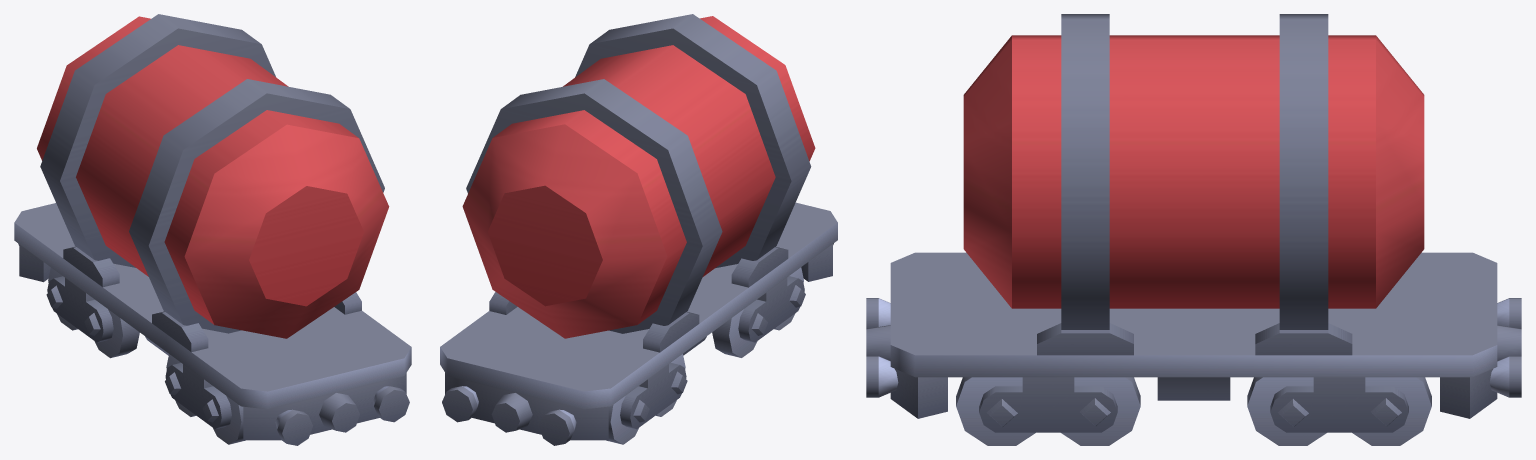
The model's file is train-carriage-tank.obj.
3 views of the same model, side by side, from view 1: azimuth 30°, elevation 25°; view 2: azimuth 150°, elevation 25°; view 3: azimuth 270°, elevation 25° (orthographic). The views are drawn at different scales.
Visible parts, largest first — view 1: train-carriage-tank, wheels-back, wheels-front; view 2: train-carriage-tank, wheels-front, wheels-back; view 3: train-carriage-tank, wheels-front, wheels-back.
Part boxes in pixels (left/top/right/bottom): train-carriage-tank: left=14, top=14, right=411, bottom=445; wheels-back: left=46, top=267, right=139, bottom=358; wheels-front: left=165, top=354, right=245, bottom=444; train-carriage-tank: left=440, top=14, right=837, bottom=445; wheels-front: left=712, top=267, right=805, bottom=357; wheels-back: left=606, top=354, right=687, bottom=444; train-carriage-tank: left=866, top=14, right=1521, bottom=418; wheels-front: left=956, top=377, right=1140, bottom=445; wheels-back: left=1247, top=377, right=1431, bottom=445.
Size of the model in its own units: 1.39 by 1.75 by 2.7.
1 material, 1 textured.
